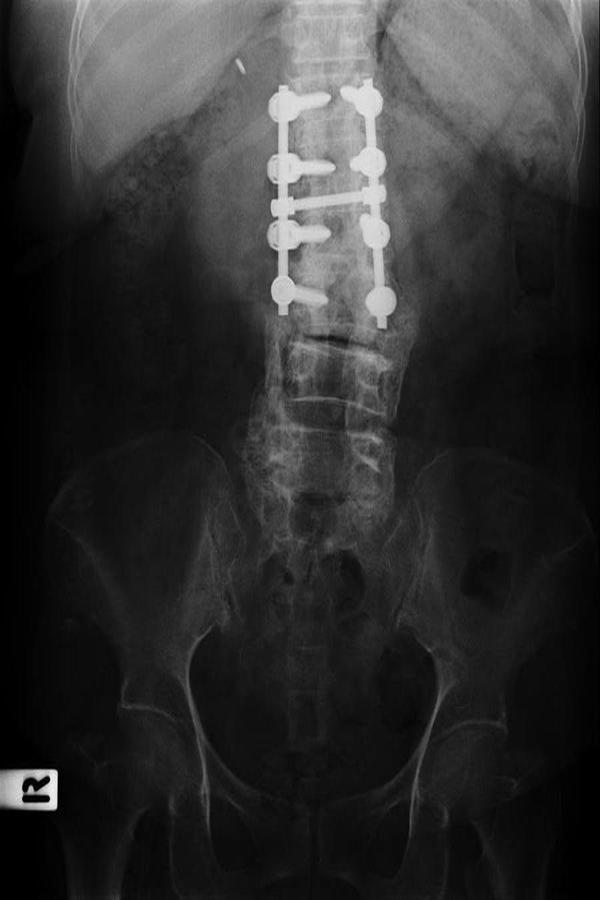lumbar scoliosis: (242, 5, 412, 548)
